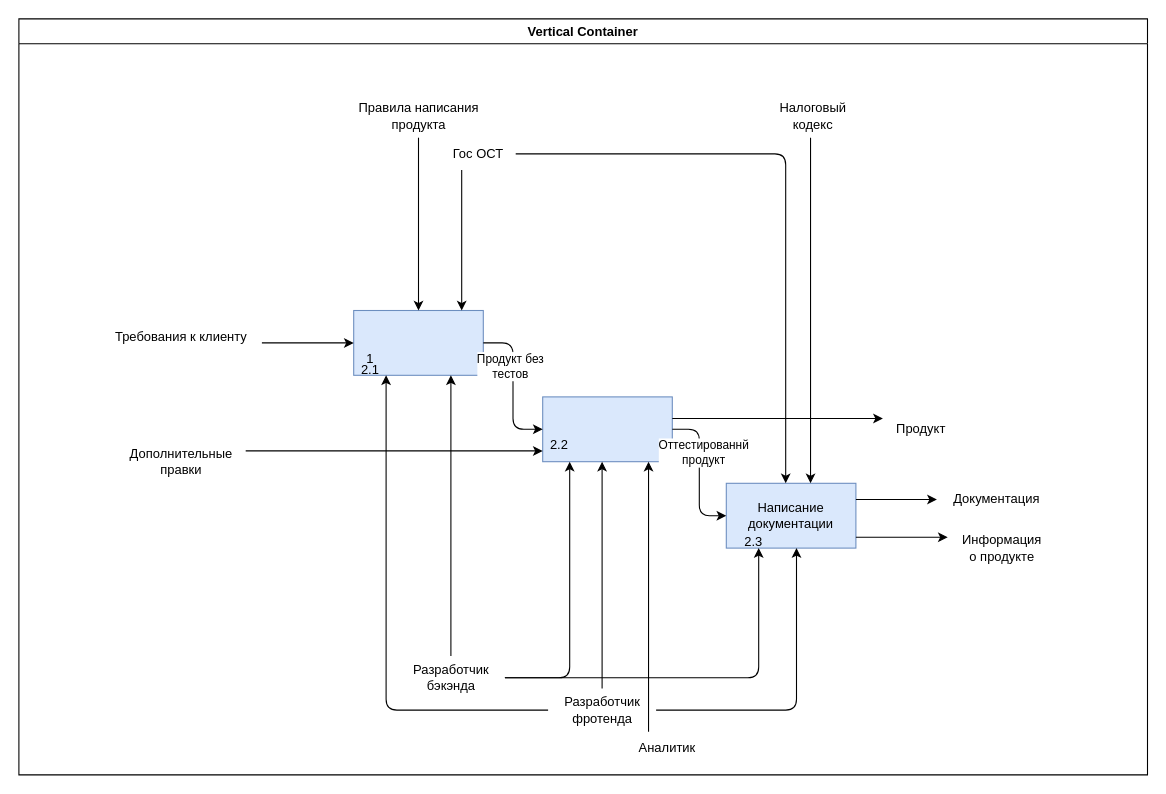
This 1166x794 diagram has some shape labels left out. Each missing label, with the box of its shape:
Спроектировать простую структуру: (353, 309, 483, 375)
Тестирование продукта: (542, 396, 672, 462)
